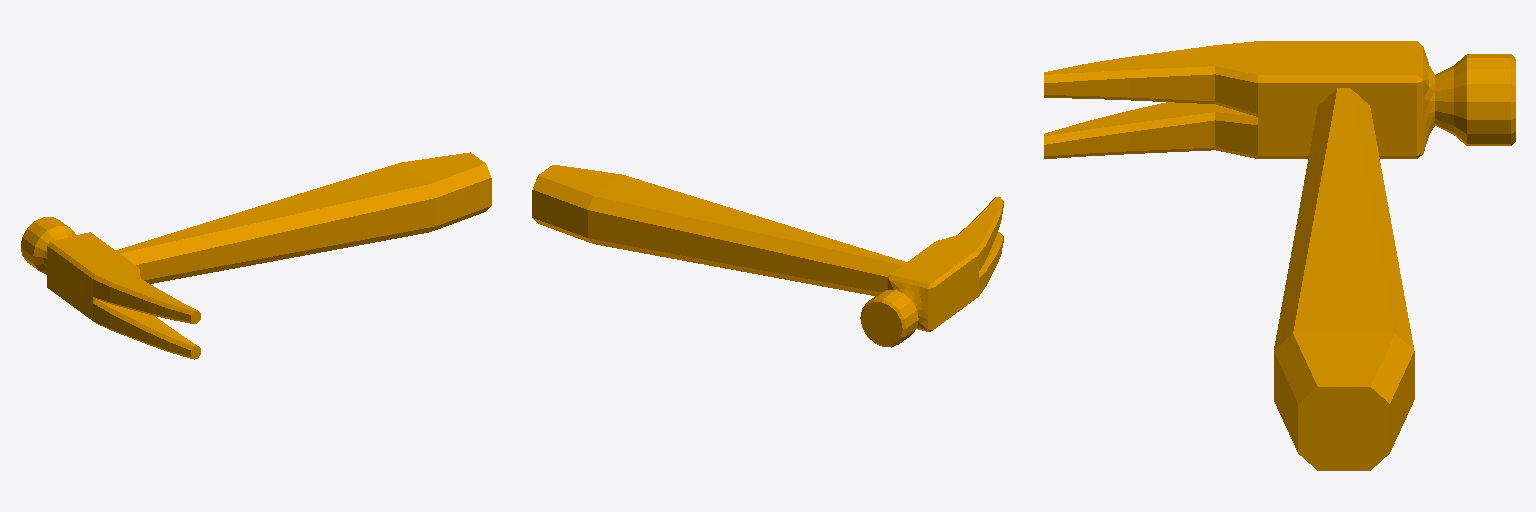
URDF robot description (object):
<?xml version="1.0"?>
<robot name="object">
  <link name="object">
    <visual>
      <origin xyz="0.0 0.0 0.0"/>
      <geometry>
        <mesh filename="hammer.stl" scale="1.00 1.00 1.00"/>
      </geometry>
    </visual>
    <collision>
      <origin xyz="0.0 0.0 0.0"/>
      <geometry>
        <mesh filename="hammer.stl" scale="1.00 1.00 1.00"/>
      </geometry>
    </collision>
  </link>
</robot>
    
                    

--- Facts derived from the render (not from the file) ---
The picture shows the robot from 3 angles, left to right: view 1: azimuth 30°, elevation 25°; view 2: azimuth 150°, elevation 25°; view 3: azimuth 270°, elevation 25°; orthographic projection.
Model object with 1 links and 0 joints (none), rooted at object, posed all joints at 0.
Links seen in each view (by area): view 1: object; view 2: object; view 3: object.
Link boxes in pixels (bbox=[...]): object: bbox=[21, 152, 491, 359]; object: bbox=[532, 165, 1003, 347]; object: bbox=[1044, 41, 1515, 470].
Size in the robot's own frame: 0.2051 by 0.1172 by 0.0231 metres.
Meshes: 1 distinct files referenced, 1 mesh visuals loaded (1 binary STL).
